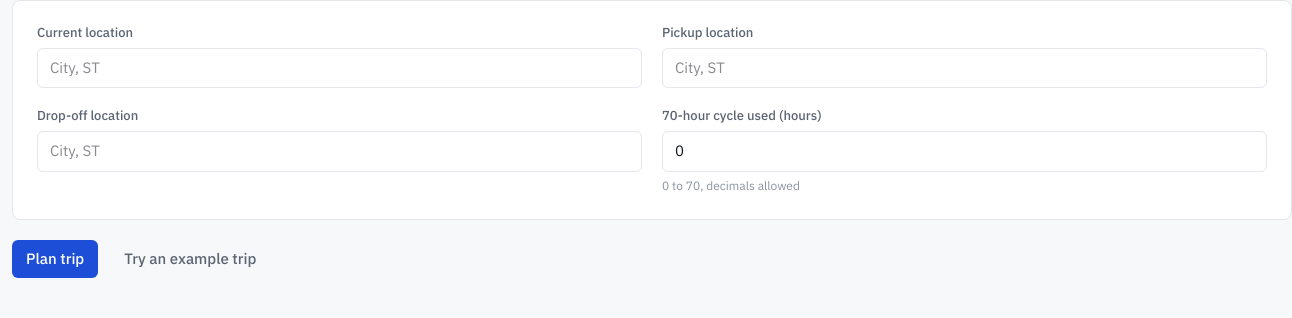
Test: TripForm › shows a validation error on each empty location field when submitted
The image size is (1292, 318).
Click the button "Plan trip" at (55,259), box [12, 240, 98, 278]
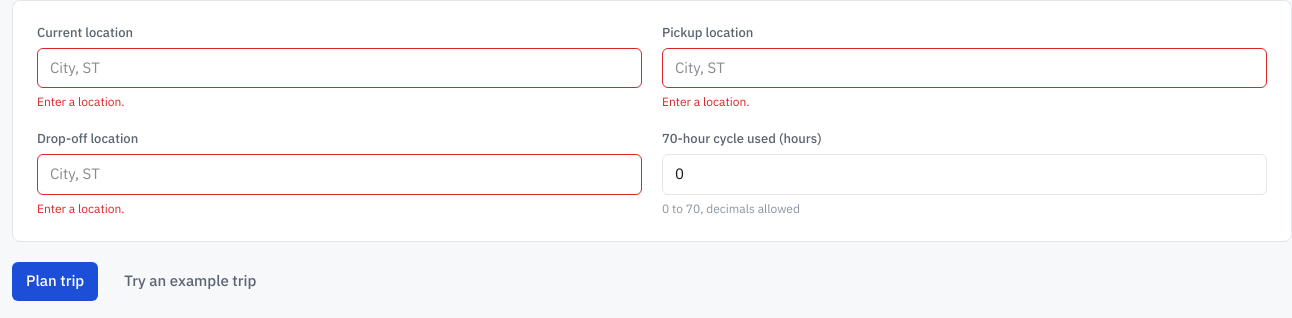
Result: the text "Enter a location." is shown 3 times at [37, 94, 124, 109]; [662, 94, 750, 109]; [37, 201, 124, 216]
